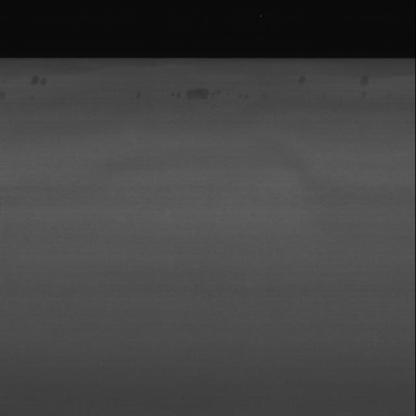oil_spot: (20, 68, 71, 88), (177, 82, 216, 108), (356, 73, 378, 93), (297, 75, 319, 87)
